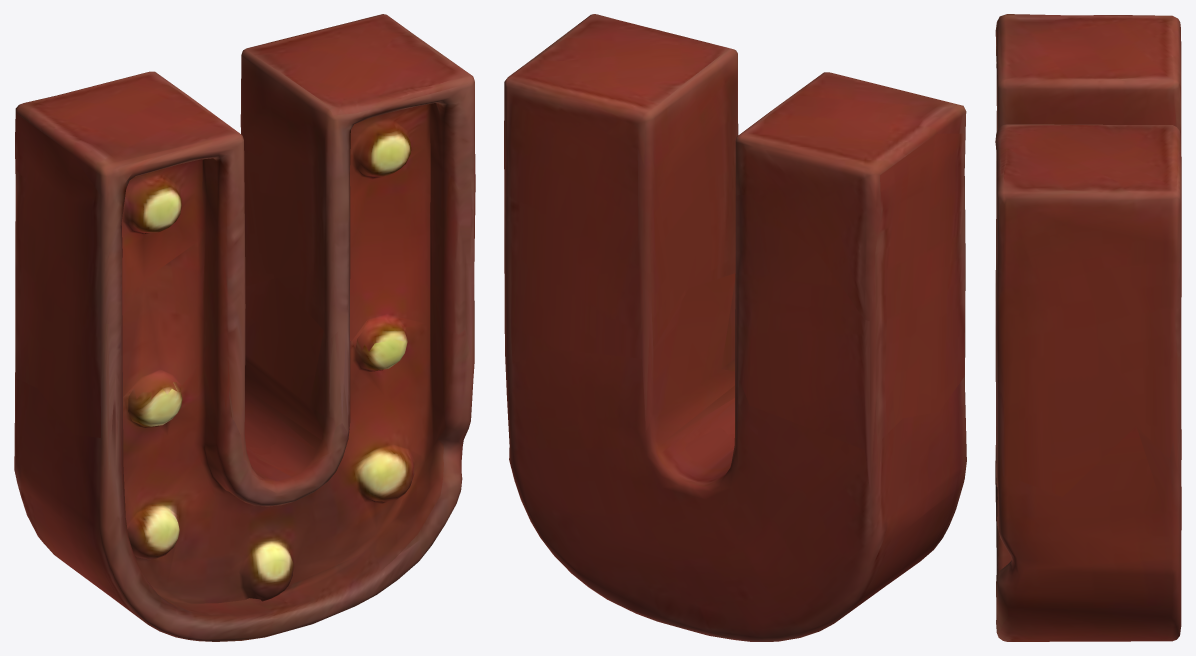
Rendered from letter_u_idle.glb.
3 renders of one model, left to right at view 1: azimuth 30°, elevation 25°; view 2: azimuth 150°, elevation 25°; view 3: azimuth 270°, elevation 25°, orthographic.
Visible parts, largest first — view 1: tmp_letters_u_z_0_3_00; view 2: tmp_letters_u_z_0_3_00; view 3: tmp_letters_u_z_0_3_00.
Part boxes in pixels (x1,y1,x2,y2): tmp_letters_u_z_0_3_00: (14, 14, 475, 641); tmp_letters_u_z_0_3_00: (504, 14, 966, 641); tmp_letters_u_z_0_3_00: (995, 14, 1181, 641).
Size of the model in its own units: 0.7702 by 0.9974 by 0.3311.
1 material, 1 textured.
